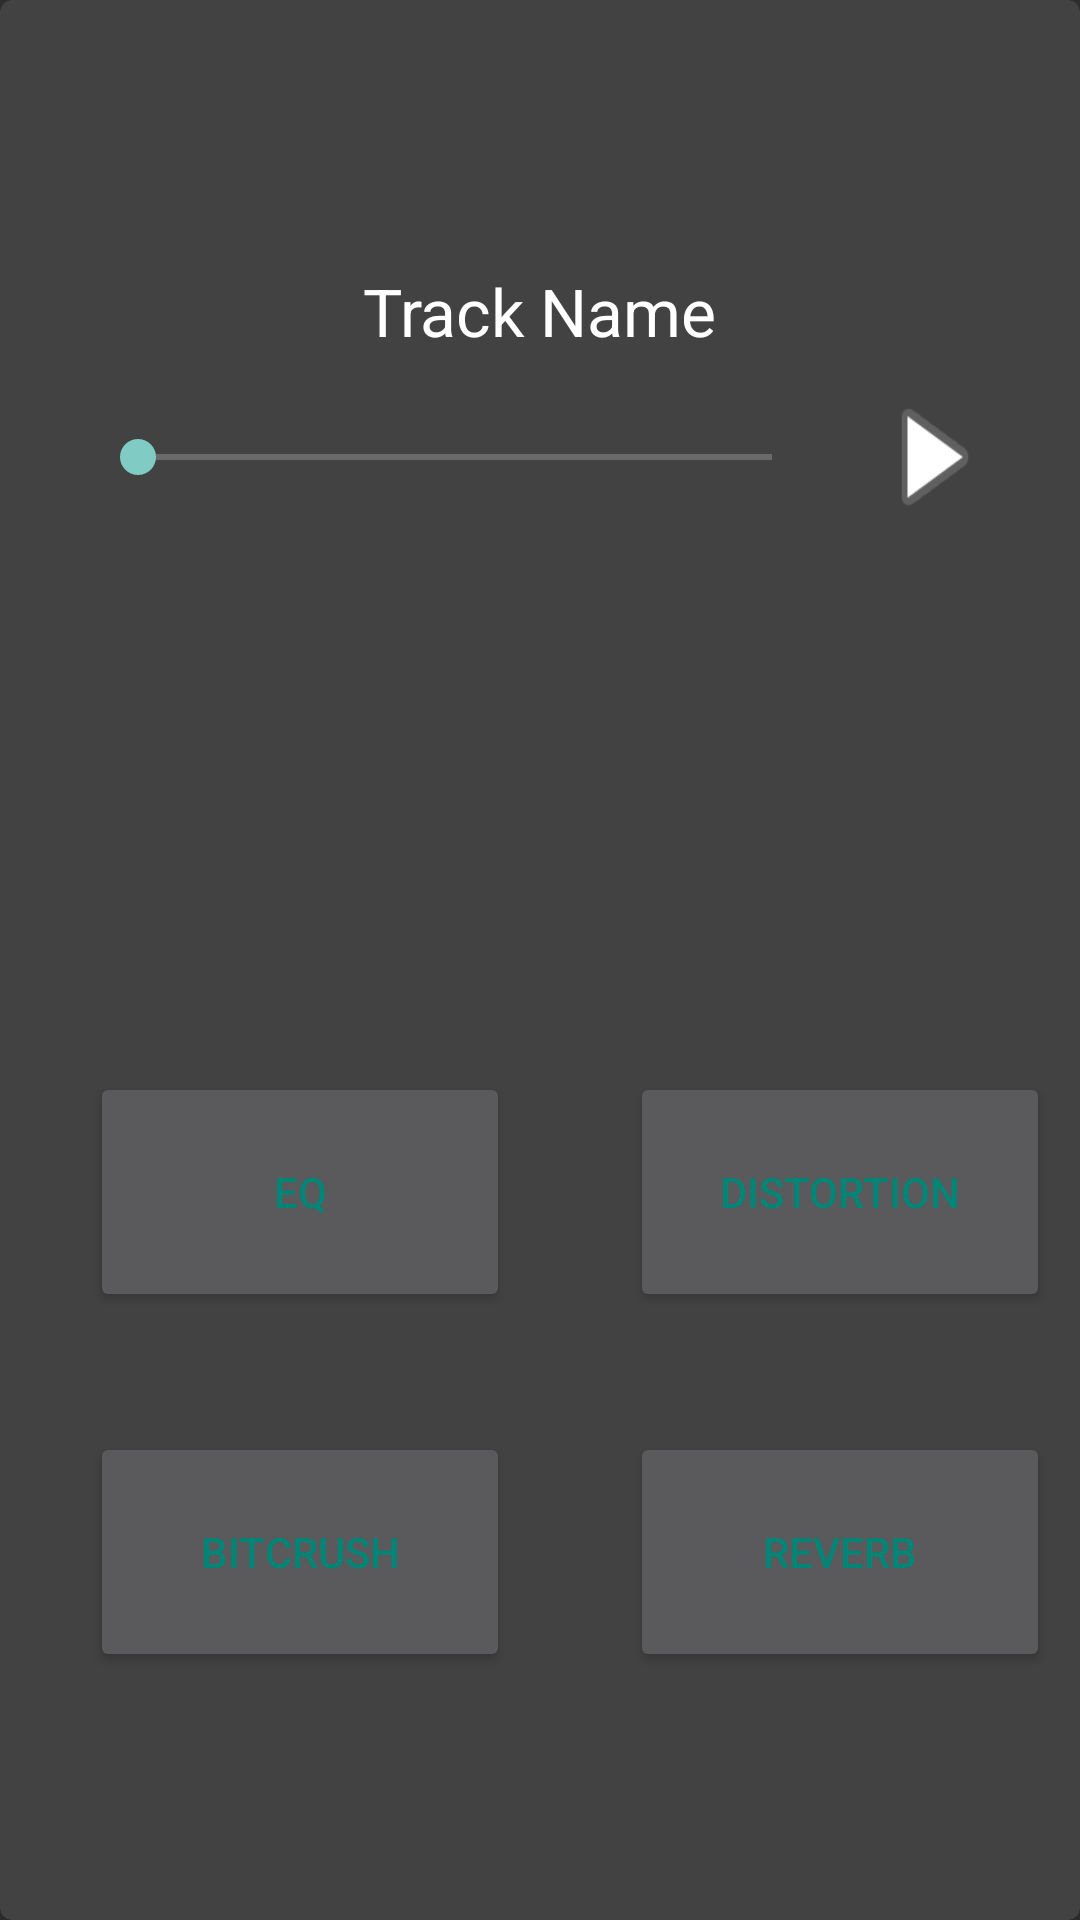

Icons on this 1080*1920 Android screen, each with its box as (x1, y1, x2, y2):
play: (902, 409, 968, 505)
